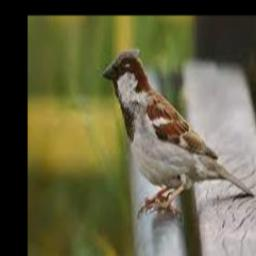Sparrow: (103, 50, 255, 219)
